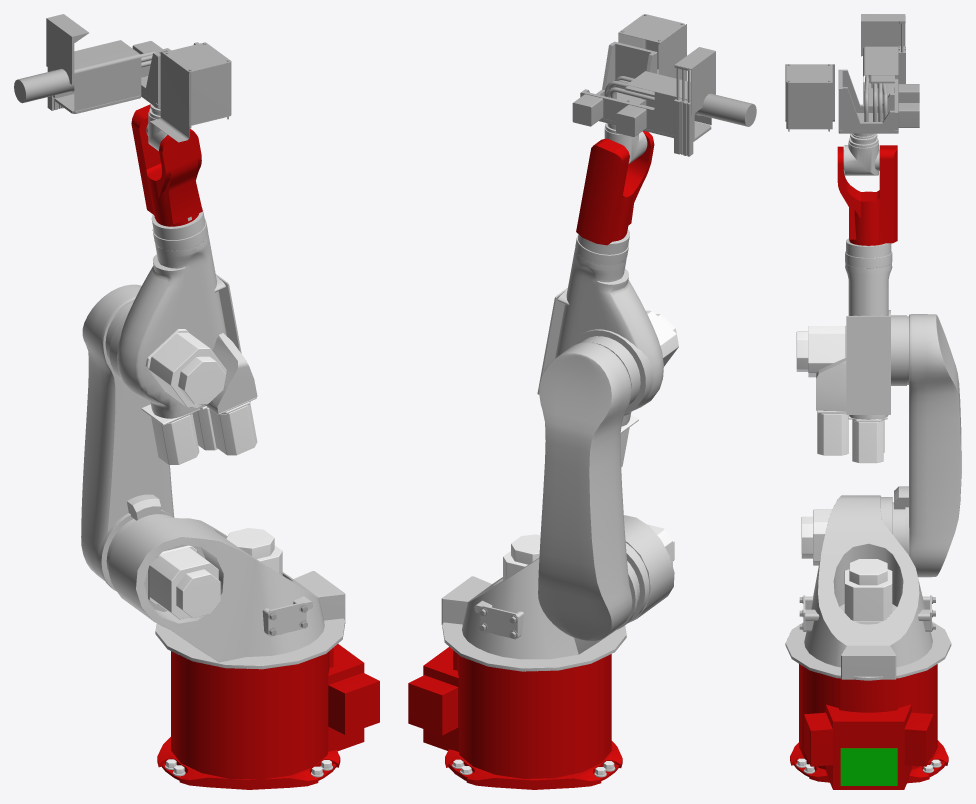
The model's file is RobotV3.fbx.
3 views of the same model, side by side, from view 1: azimuth 30°, elevation 25°; view 2: azimuth 150°, elevation 25°; view 3: azimuth 270°, elevation 25° (orthographic). The views are drawn at different scales.
Visible parts, largest first — view 1: Arm_1, Arm_2, Arm_4, Arm_7, Arm_3, Arm_4_metal, Arm2_metal, Arm_5; view 2: Arm_3, Arm_1, Arm_2, Arm_7, Arm_4, Arm_5, Arm2_metal, Arm_4_metal, Arm_7_code, Arm_6; view 3: Arm_2, Arm_1, Arm_3, Arm_4, Arm_7, Arm_4_metal, Arm2_metal, Arm_5, Arm_6, Arm_7_code, Arm_1_bolt.
Part boxes in pixels (left/top/right/bottom): Arm_1: left=157, top=644, right=379, bottom=789; Arm_2: left=106, top=514, right=345, bottom=669; Arm_4: left=105, top=208, right=257, bottom=418; Arm_7: left=14, top=14, right=231, bottom=142; Arm_3: left=81, top=284, right=174, bottom=591; Arm_4_metal: left=141, top=329, right=257, bottom=464; Arm2_metal: left=148, top=528, right=282, bottom=619; Arm_5: left=131, top=104, right=202, bottom=226; Arm_3: left=538, top=342, right=637, bottom=641; Arm_1: left=408, top=647, right=622, bottom=789; Arm_2: left=441, top=515, right=674, bottom=671; Arm_7: left=572, top=14, right=756, bottom=156; Arm_4: left=537, top=229, right=663, bottom=426; Arm_5: left=576, top=130, right=654, bottom=245; Arm2_metal: left=503, top=524, right=674, bottom=580; Arm_4_metal: left=620, top=310, right=678, bottom=466; Arm_7_code: left=604, top=68, right=690, bottom=102; Arm_6: left=604, top=123, right=647, bottom=163; Arm_2: left=785, top=495, right=951, bottom=680; Arm_1: left=790, top=664, right=948, bottom=789; Arm_3: left=894, top=314, right=961, bottom=577; Arm_4: left=816, top=238, right=906, bottom=419; Arm_7: left=785, top=14, right=919, bottom=133; Arm_4_metal: left=796, top=326, right=887, bottom=463; Arm2_metal: left=801, top=509, right=892, bottom=623; Arm_5: left=837, top=145, right=897, bottom=245; Arm_6: left=843, top=133, right=879, bottom=175; Arm_7_code: left=864, top=23, right=903, bottom=121; Arm_1_bolt: left=796, top=758, right=941, bottom=773.
Size of the model in its own units: 130 by 295 by 70.89.
